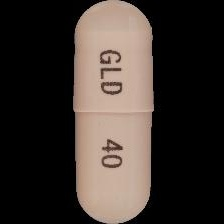66993-815: (0, 0, 224, 224)
